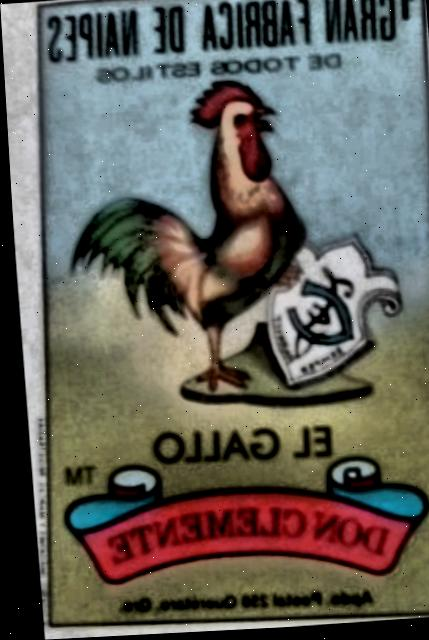Gallo: (34, 0, 429, 626)
